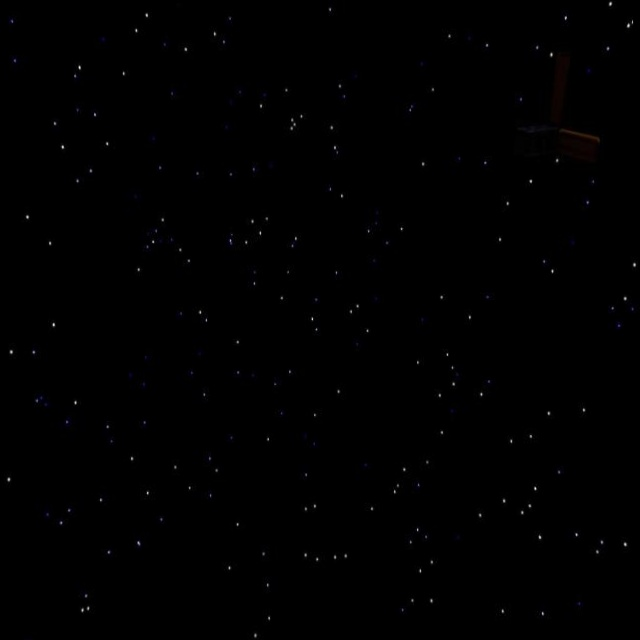satellite: (510, 44, 614, 177)
